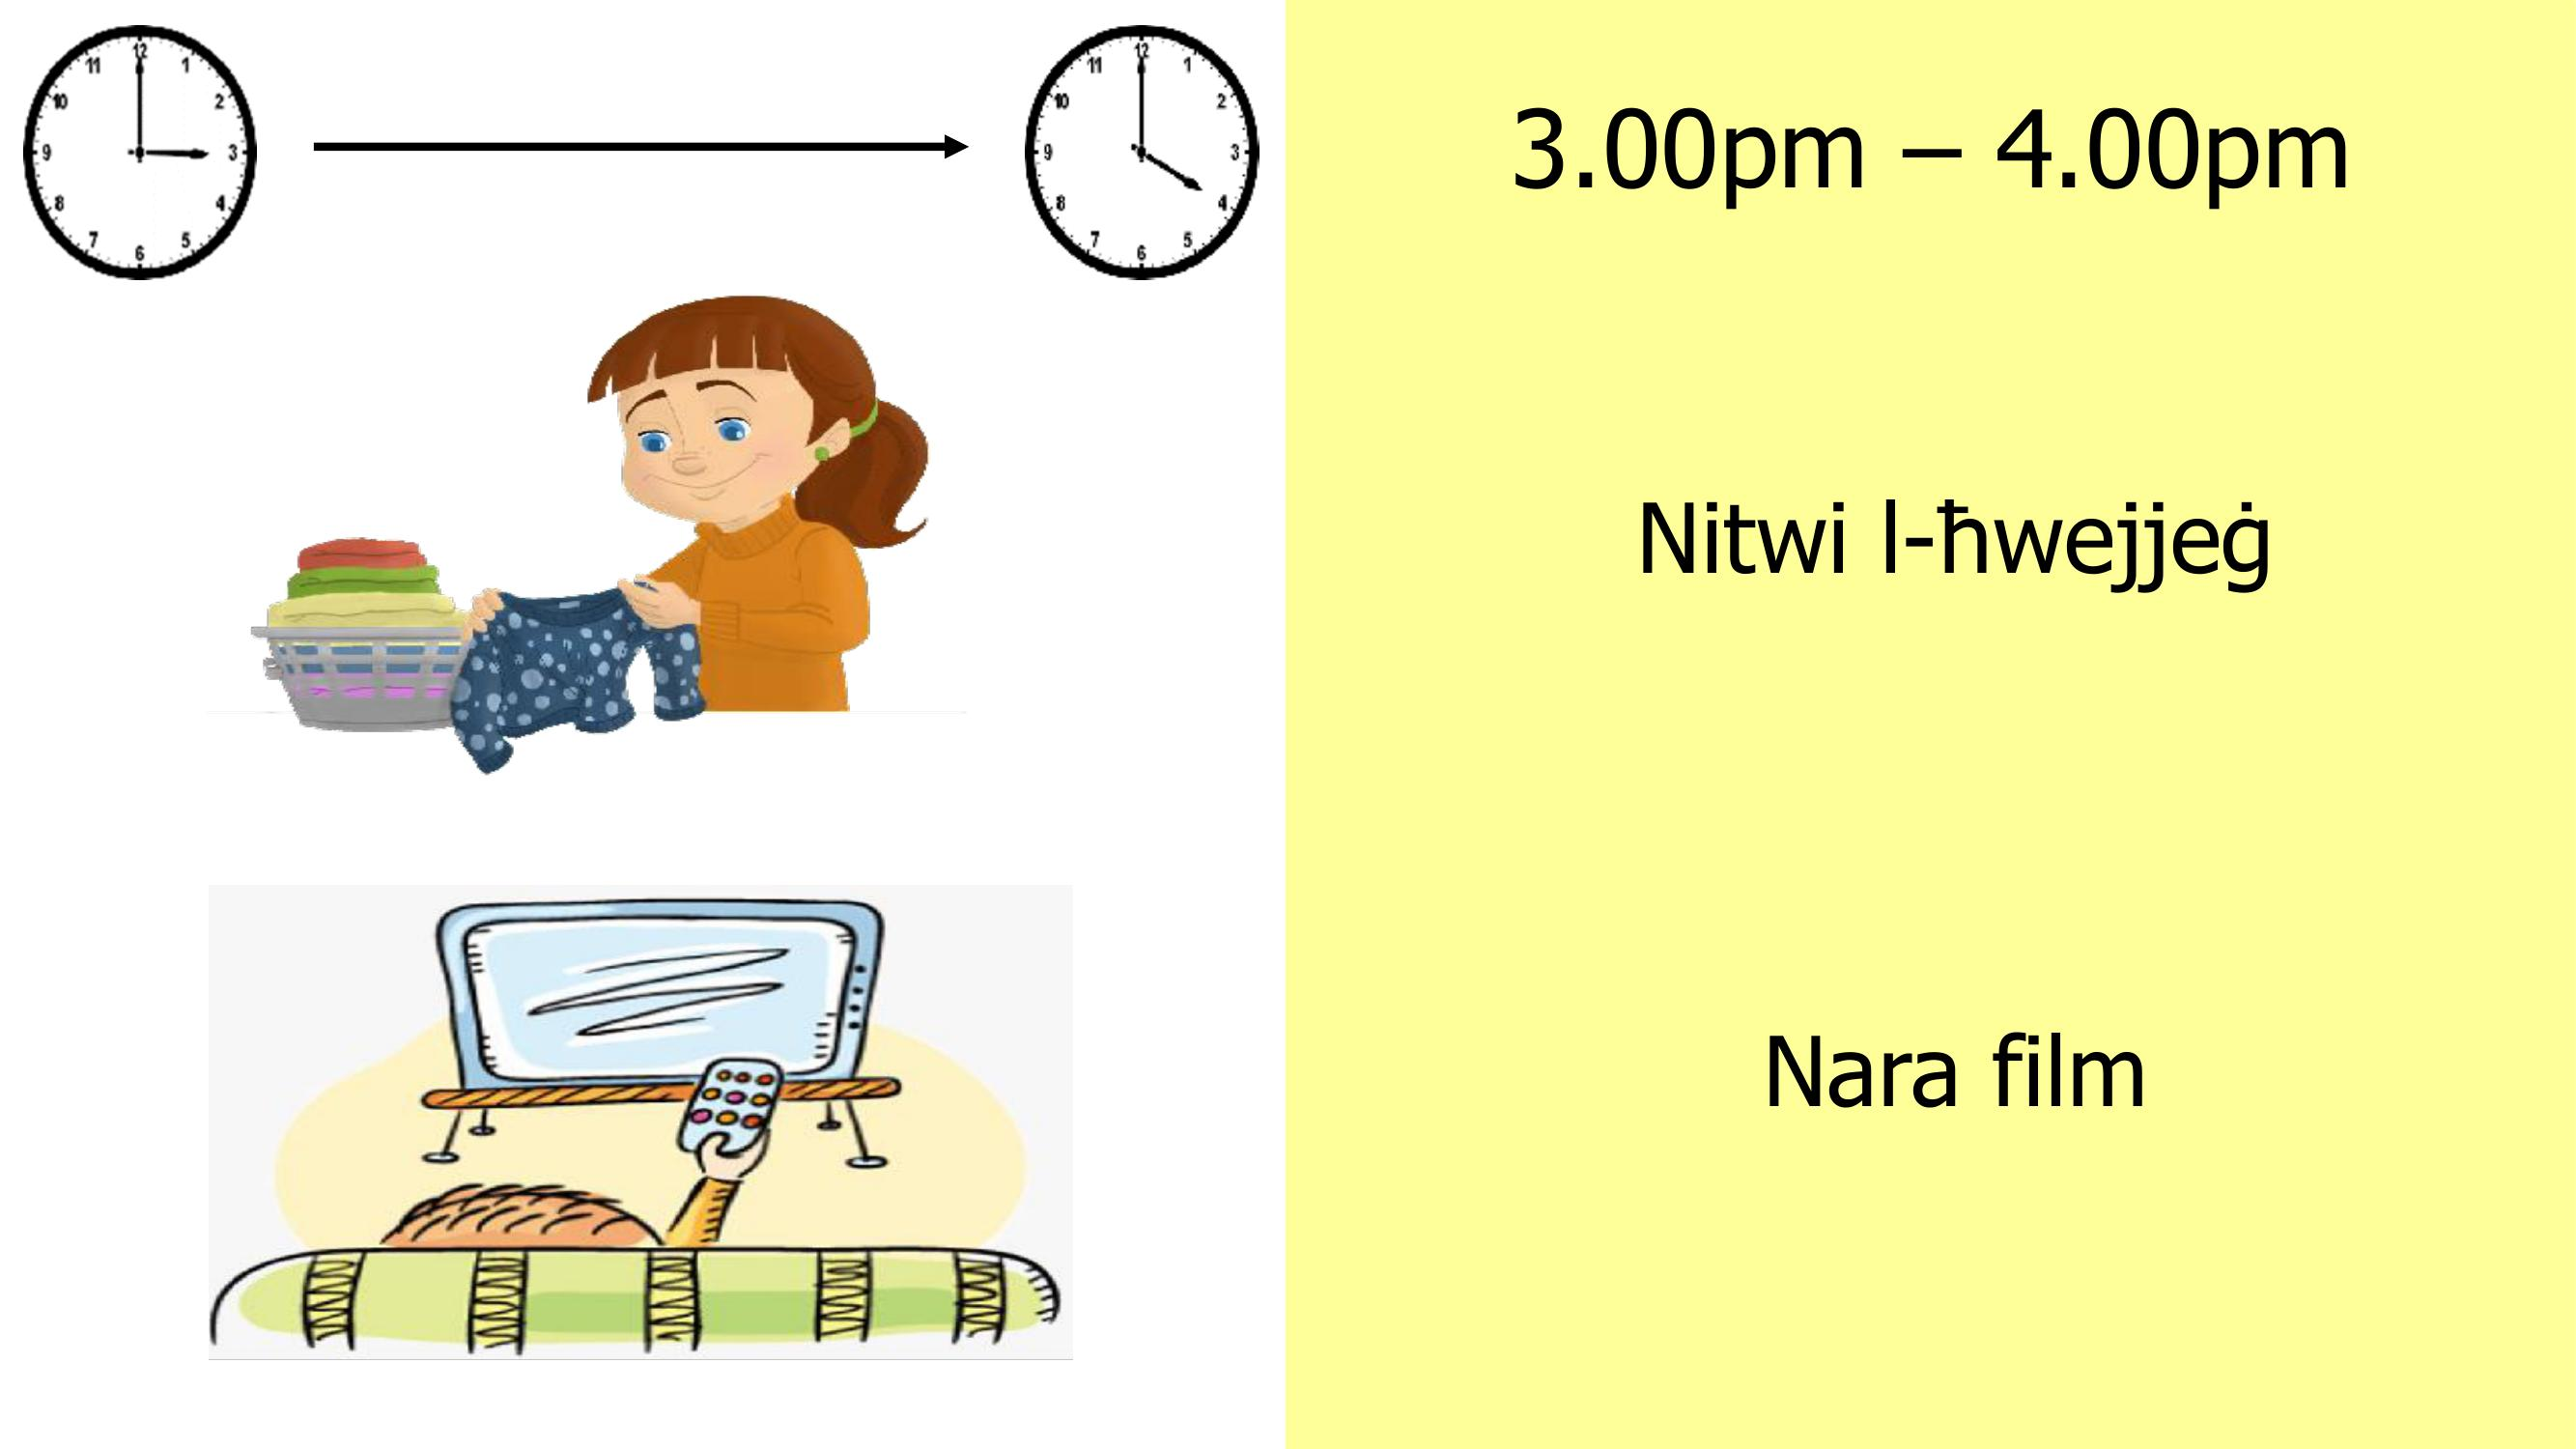text: (1592, 437, 2316, 1191)
